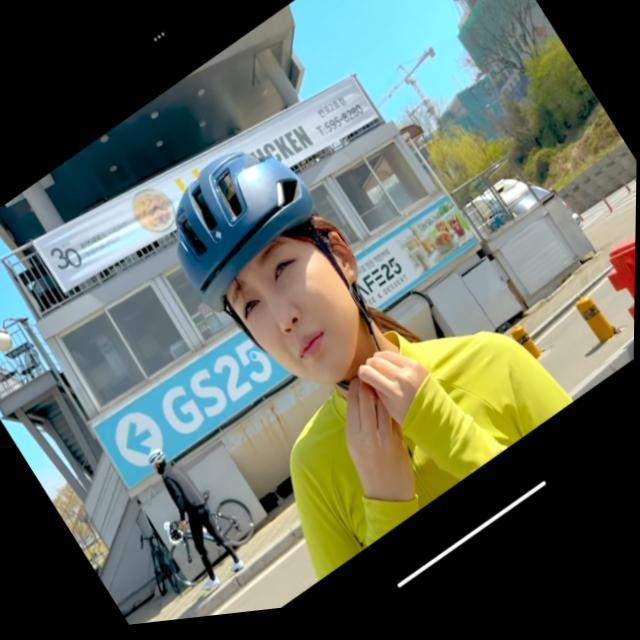Helmet: (160, 129, 385, 409)
